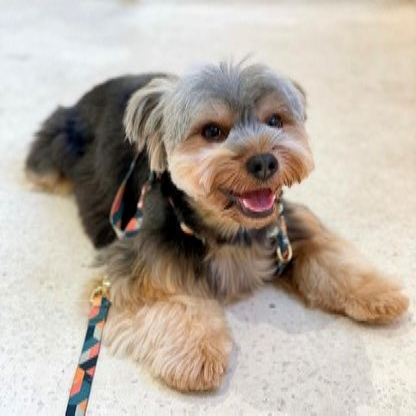yorkshire: (17, 51, 412, 395)
